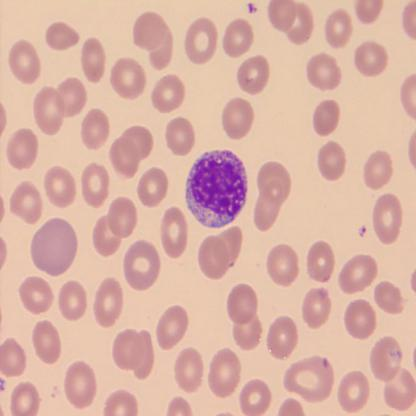Metamyelocyte: (183, 146, 250, 230)
